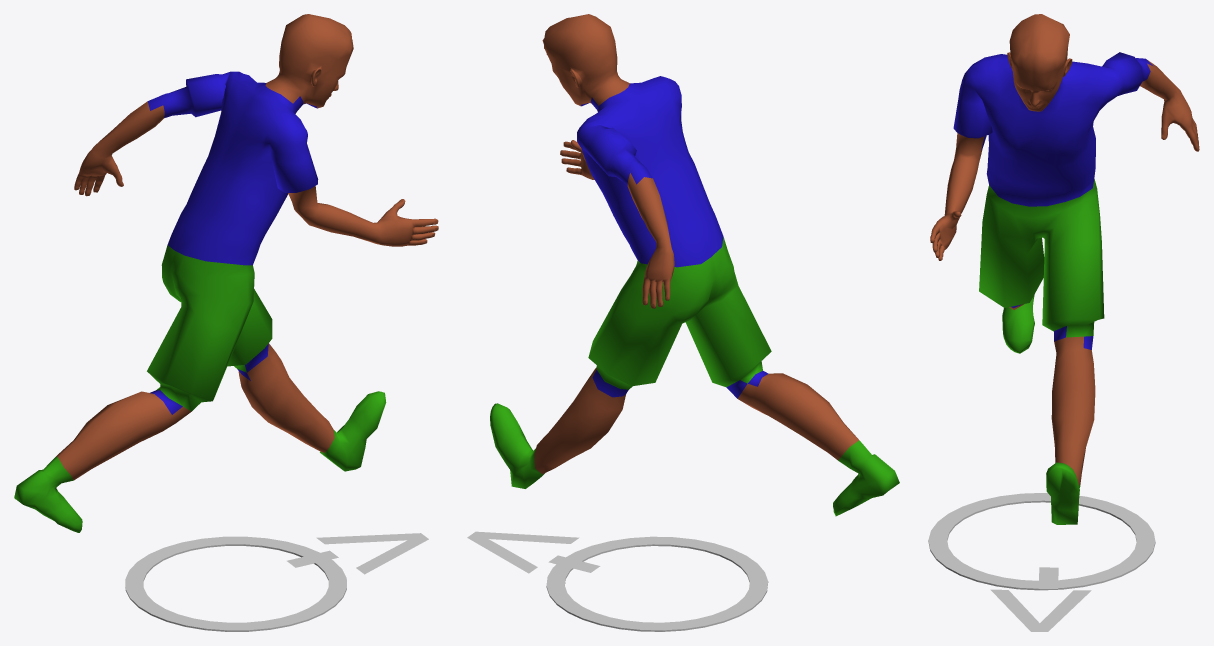
File: playerAI_000007.obj
3 views of the same model, side by side, from view 1: azimuth 30°, elevation 25°; view 2: azimuth 150°, elevation 25°; view 3: azimuth 270°, elevation 25° (orthographic). The views are drawn at different scales.
Visible parts, largest first — view 1: soccerplayer.003_mesh.002, Circle.001, Text_Mesh; view 2: soccerplayer.003_mesh.002, Circle.001, Text_Mesh; view 3: soccerplayer.003_mesh.002, Circle.001, Text_Mesh.
Boxes of the visible parts, left/top/right/bottom form: soccerplayer.003_mesh.002: left=14, top=14, right=438, bottom=532; Circle.001: left=125, top=536, right=346, bottom=631; Text_Mesh: left=287, top=533, right=428, bottom=574; soccerplayer.003_mesh.002: left=490, top=14, right=899, bottom=516; Circle.001: left=546, top=536, right=768, bottom=631; Text_Mesh: left=467, top=531, right=600, bottom=573; soccerplayer.003_mesh.002: left=930, top=14, right=1199, bottom=524; Circle.001: left=928, top=493, right=1155, bottom=590; Text_Mesh: left=990, top=567, right=1091, bottom=631.
Bounding box in the file's own units: 2.35 × 2.98 × 1.3.
